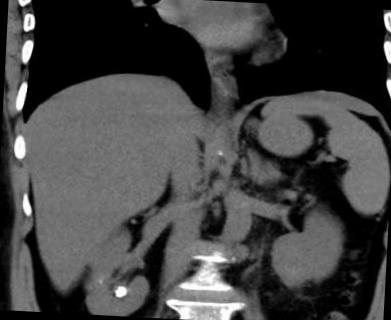Tas_Var: (112, 284, 130, 300), (98, 278, 104, 286)
